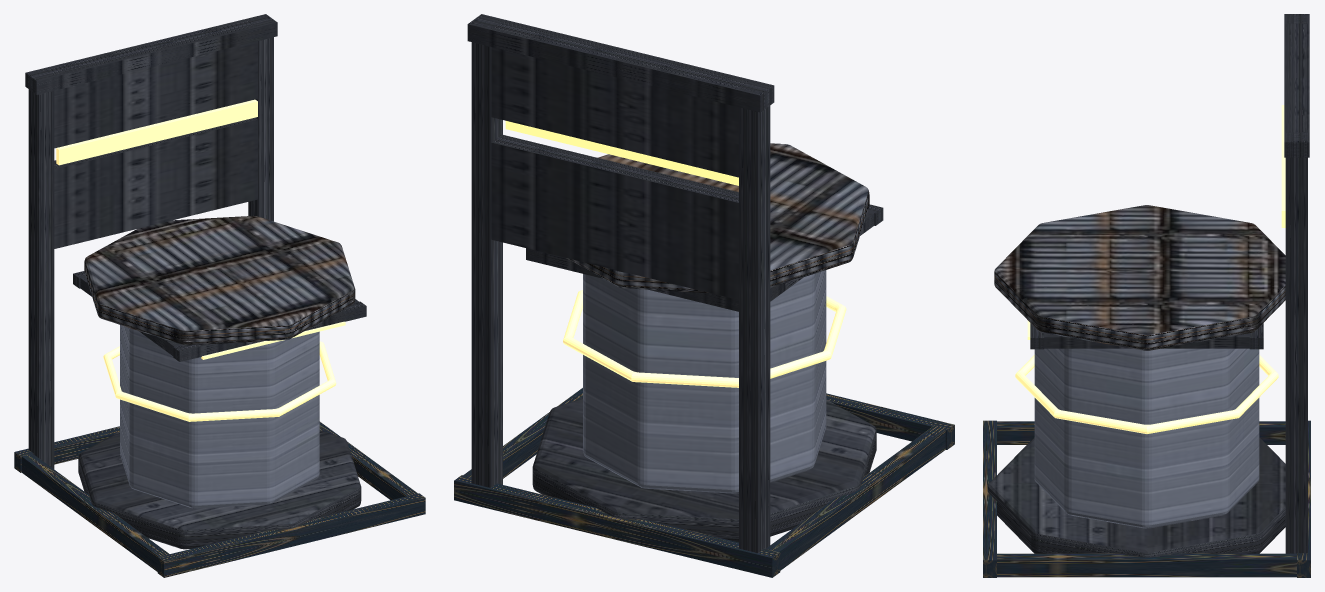
File: bridge_column.glb
The picture shows the model from 3 angles, left to right: view 1: azimuth 30°, elevation 25°; view 2: azimuth 150°, elevation 25°; view 3: azimuth 270°, elevation 25°; orthographic projection. The views are drawn at different scales.
Visible parts, largest first — view 1: sight_shell, shaft, capital, foot, shelltoe0, sightglow, shelltoes0, collar, shelltoes2, shellrim0, shelltoe2, shellglow; view 2: sight_shell, shaft, foot, capital, shelltoe2, shelltoes0, collar, shelltoe0, sightglow, shelltoes2, shellrim2; view 3: shaft, capital, foot, sight_shell, shelltoes2, collar, shelltoe0, shellrims2, shelltoes0, shelltoe2, sightglow.
Part boxes in pixels (box(x1,y1,x2,y2)): sight_shell: box(25, 14, 277, 468); shaft: box(120, 325, 319, 508); capital: box(84, 215, 355, 345); foot: box(78, 430, 361, 549); shelltoe0: box(157, 493, 425, 577); sightglow: box(56, 99, 257, 165); shelltoes0: box(21, 452, 169, 571); collar: box(103, 341, 336, 421); shelltoes2: box(319, 421, 417, 500); shellrim0: box(173, 301, 366, 361); shelltoe2: box(14, 426, 119, 472); shellglow: box(201, 321, 345, 359); sight_shell: box(467, 14, 774, 552); shaft: box(583, 270, 826, 493); foot: box(532, 398, 876, 542); capital: box(566, 143, 869, 292); shelltoe2: box(454, 475, 780, 577); shelltoes0: box(766, 425, 947, 570); collar: box(563, 290, 846, 387); shelltoe0: box(826, 393, 954, 449); sightglow: box(505, 121, 738, 185); shelltoes2: box(461, 388, 582, 479); shellrim2: box(526, 248, 738, 311); shaft: box(1034, 348, 1259, 528); capital: box(994, 205, 1285, 350); foot: box(987, 437, 1285, 557); sight_shell: box(1284, 14, 1309, 553); shelltoes2: box(997, 553, 1296, 577); collar: box(1015, 355, 1278, 433); shelltoe0: box(983, 420, 996, 577); shellrims2: box(1044, 333, 1249, 348); shelltoes0: box(997, 421, 1285, 444); shelltoe2: box(1297, 420, 1310, 577); sightglow: box(1281, 105, 1285, 227).
Size of the model in its own units: 1.18 by 1.7 by 1.17.
6 materials, 4 textured.
